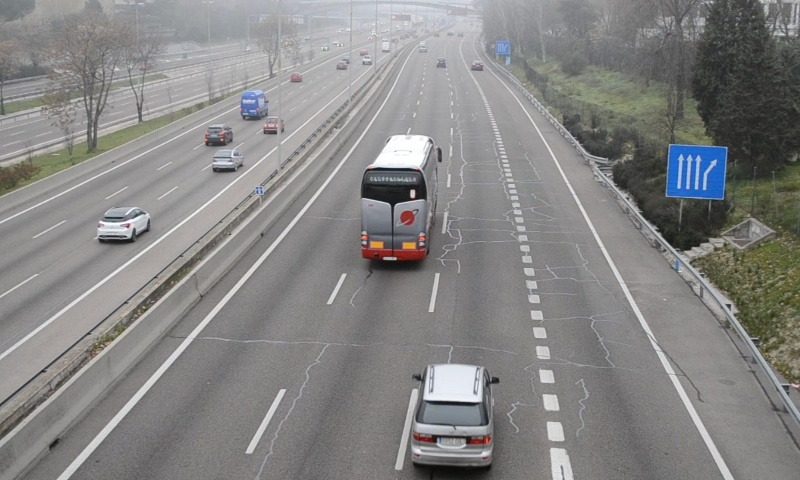bus: (360, 133, 437, 263)
car: (408, 365, 499, 467), (470, 58, 484, 71)
